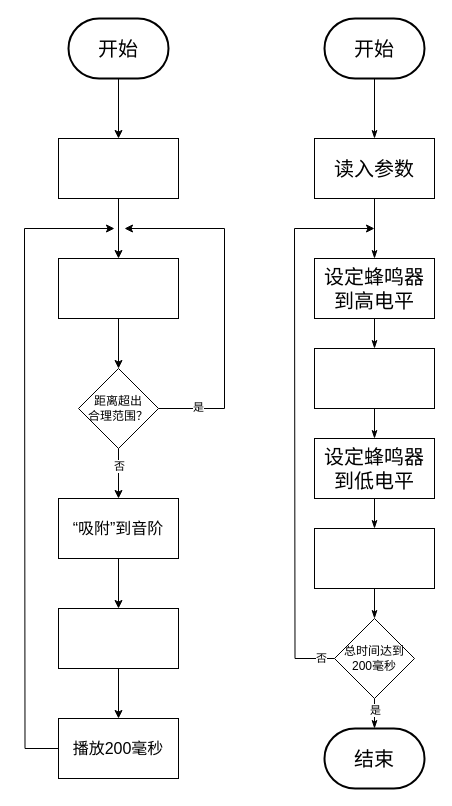
This 452x806 diagram has some shape labels left out. Here are the shapes that lost their labels. From the top down, the centre of each, then its label:
[118,168]: 初始化
[118,288]: 从超声波传感器中读取距离
[374,378]: 等待半周期*音量
[374,558]: 完成剩下的周期
[118,638]: 计算频率
